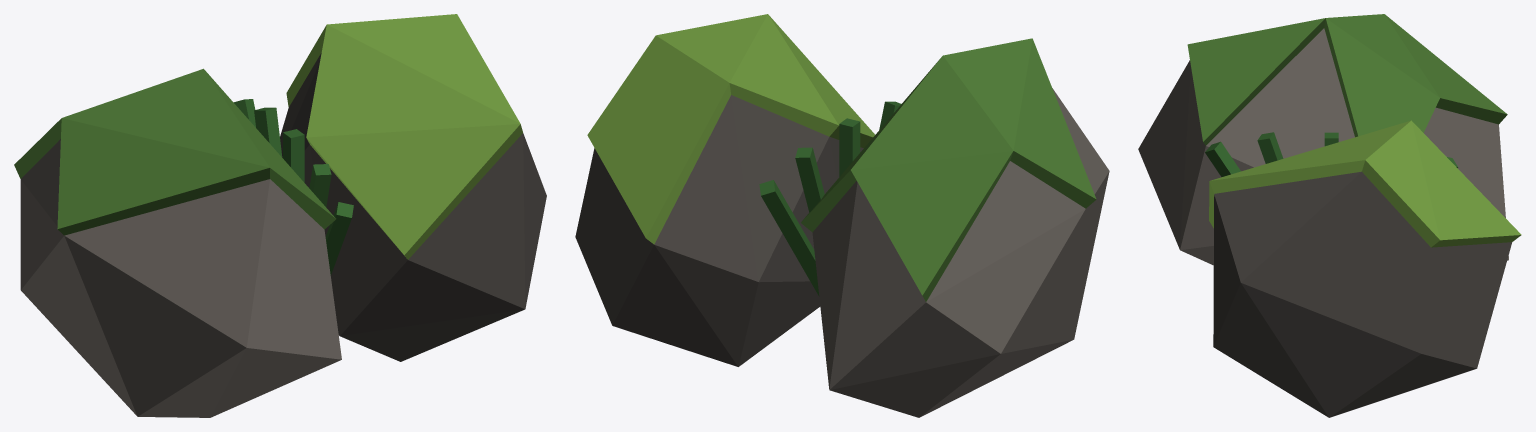
The model's file is rocher_foret_2.glb.
3 renders of one model, left to right at view 1: azimuth 30°, elevation 25°; view 2: azimuth 150°, elevation 25°; view 3: azimuth 270°, elevation 25°, orthographic. The views are drawn at different scales.
Parts seen in each view (by area): view 1: roche_pierre.012, mousse_mousse_claire.004, roche_pierre_sombre.010, mousse_mousse.006, fougere_feuille_sombre.002; view 2: roche_pierre.012, roche_pierre_sombre.010, mousse_mousse.006, mousse_mousse_claire.004, fougere_feuille_sombre.002; view 3: roche_pierre_sombre.010, roche_pierre.012, mousse_mousse.006, mousse_mousse_claire.004, fougere_feuille_sombre.002.
Part boxes in pixels (box(x1,y1,x2,y2)): roche_pierre.012: box(20, 139, 341, 417); mousse_mousse_claire.004: box(286, 14, 522, 259); roche_pierre_sombre.010: box(280, 53, 546, 361); mousse_mousse.006: box(14, 68, 335, 235); fougere_feuille_sombre.002: box(234, 99, 353, 275); roche_pierre.012: box(812, 88, 1109, 417); roche_pierre_sombre.010: box(575, 95, 863, 366); mousse_mousse.006: box(801, 38, 1096, 301); mousse_mousse_claire.004: box(587, 14, 874, 244); fougere_feuille_sombre.002: box(759, 101, 901, 296); roche_pierre_sombre.010: box(1213, 171, 1512, 417); roche_pierre.012: box(1138, 28, 1508, 265); mousse_mousse.006: box(1187, 14, 1507, 145); mousse_mousse_claire.004: box(1209, 120, 1521, 247); fougere_feuille_sombre.002: box(1205, 132, 1458, 176).
Bounding box in the file's own units: 0.8708 × 0.5561 × 0.696.
